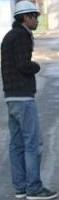boots: (26, 186, 58, 199), (14, 188, 26, 198)
hard-hat: (13, 0, 41, 15)
ppe-suit: (0, 0, 2, 1)
